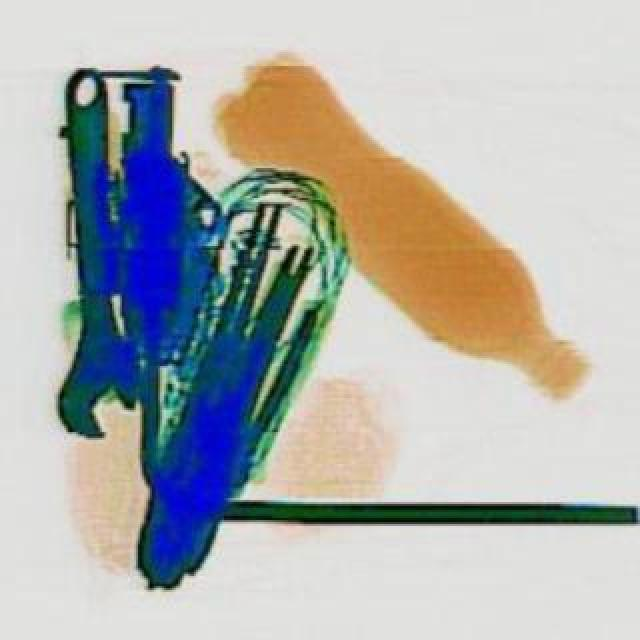scissors: (44, 70, 148, 444)
